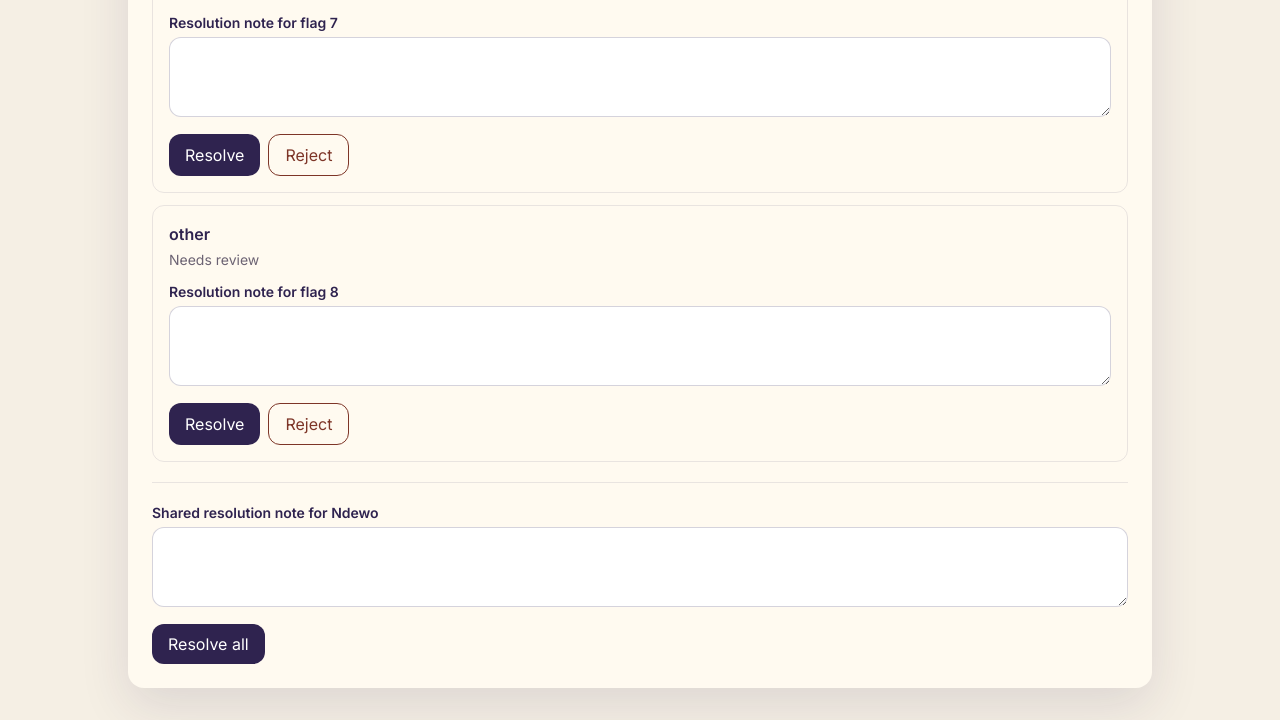
Test: AdminRoute › resolves all flags for an item and removes the item
The image size is (1280, 720).
(page scrolled)
Step 1. Type "Updated audio" into the text box labelled "Shared resolution note for Ndewo" → (640, 567), box x1=152 y1=527 x2=1128 y2=607
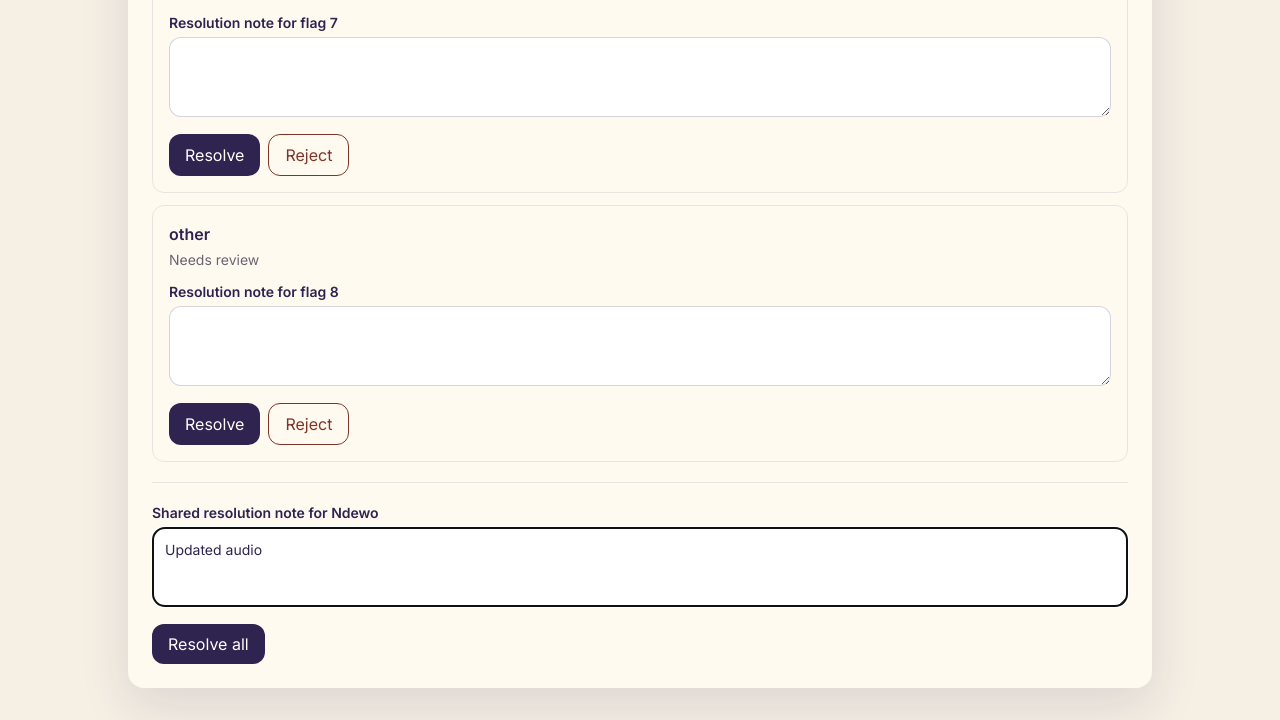
Step 2. Click the button with aria-label "Resolve all flags for Ndewo" → (208, 644), box x1=152 y1=624 x2=265 y2=664
(page scrolled)
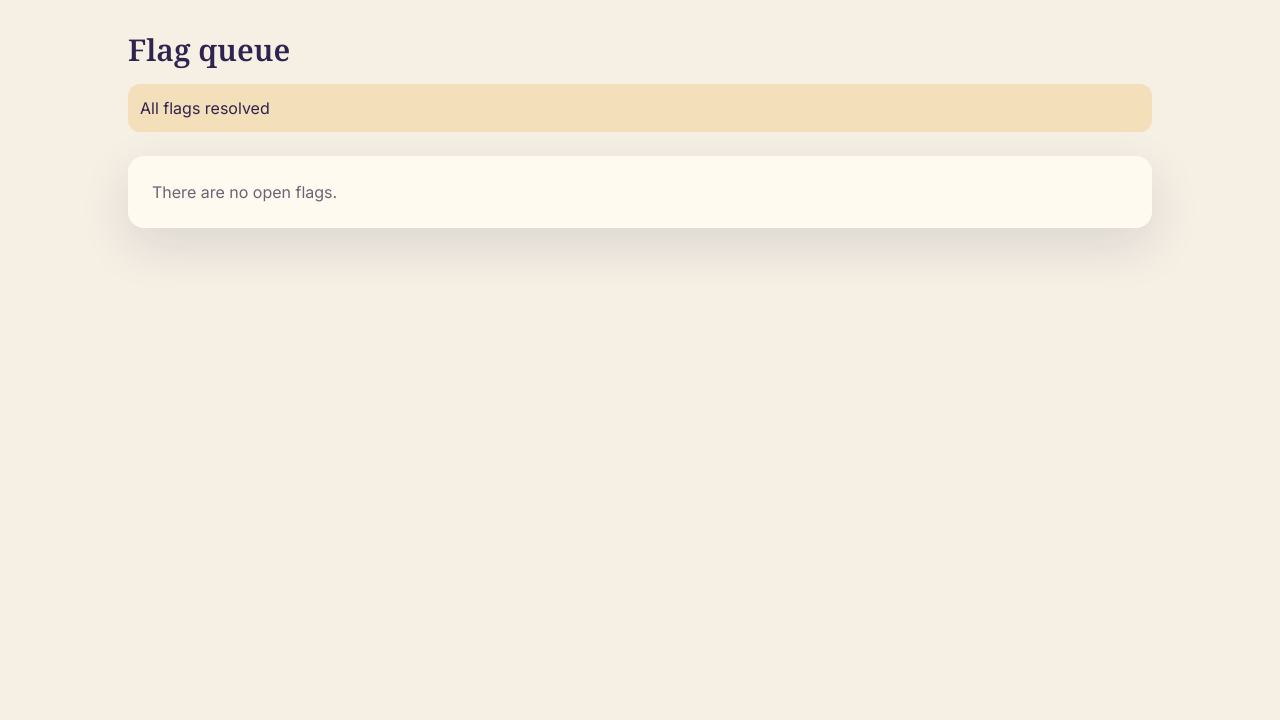
Check: the text "Ndewo" is gone
Check: the text "All flags resolved" is shown, box x1=128 y1=84 x2=1152 y2=132
